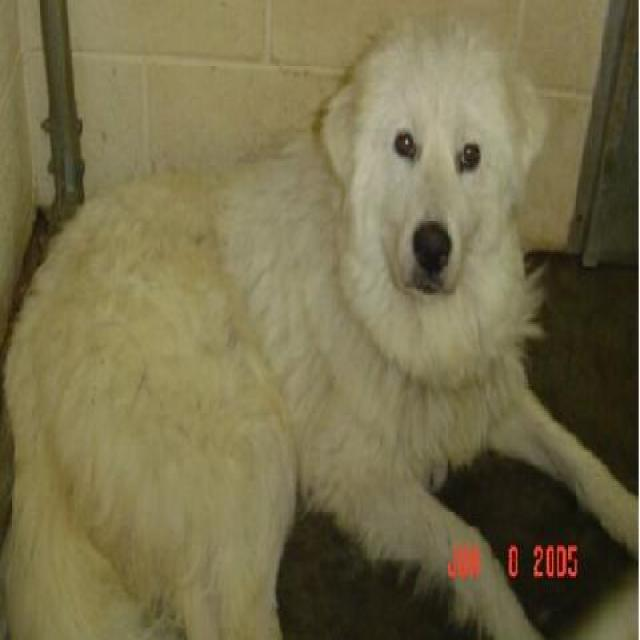Dogs: (0, 14, 636, 638)
